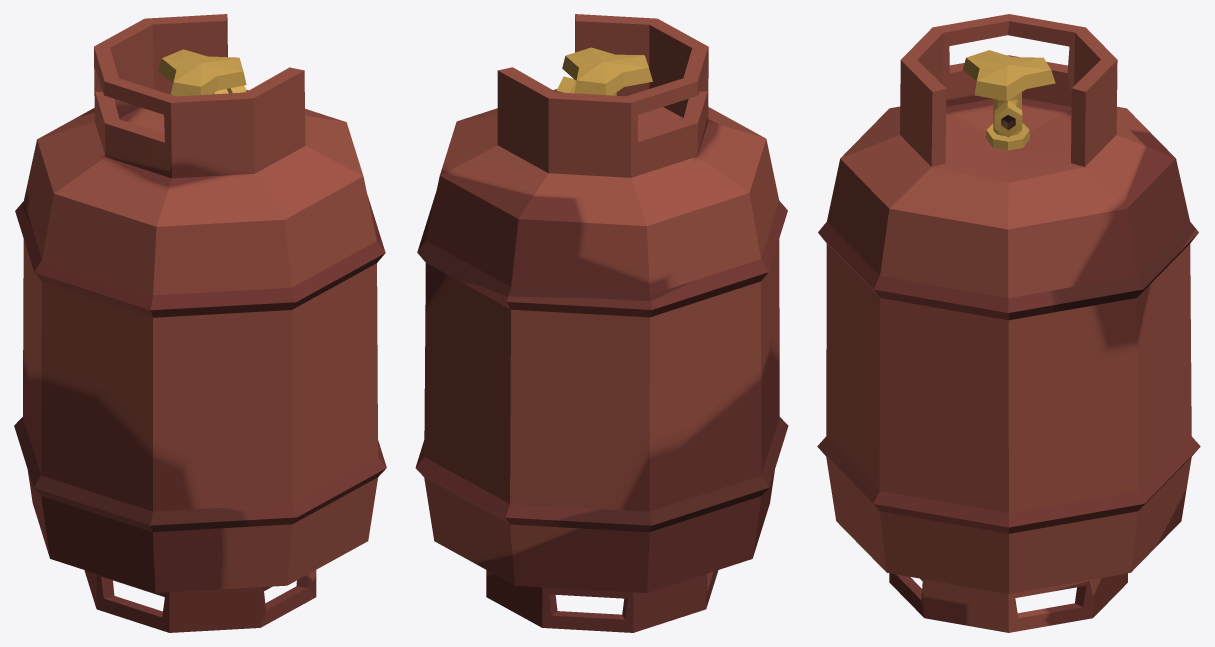
Rendered from SM_Prop_Propane_01.obj.
The picture shows the model from 3 angles, left to right: view 1: azimuth 30°, elevation 25°; view 2: azimuth 150°, elevation 25°; view 3: azimuth 270°, elevation 25°; orthographic projection.
Parts seen in each view (by area): view 1: SM_Prop_Propane_01_0; view 2: SM_Prop_Propane_01_0; view 3: SM_Prop_Propane_01_0.
Boxes of the visible parts, left/top/right/bottom form: SM_Prop_Propane_01_0: left=14, top=14, right=386, bottom=632; SM_Prop_Propane_01_0: left=415, top=14, right=788, bottom=632; SM_Prop_Propane_01_0: left=817, top=14, right=1200, bottom=632.
Bounding box in the file's own units: 0.3542 × 0.5323 × 0.3542.
Materials: 1 (1 with a texture image).
